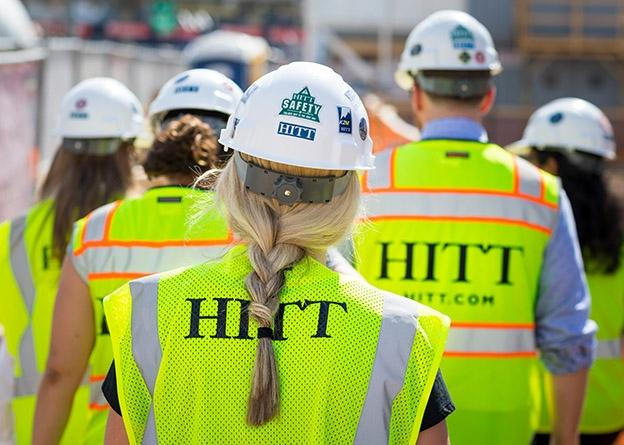helmet: (221, 59, 378, 172), (398, 11, 502, 88), (508, 100, 616, 157), (61, 79, 146, 143), (150, 70, 243, 115)
